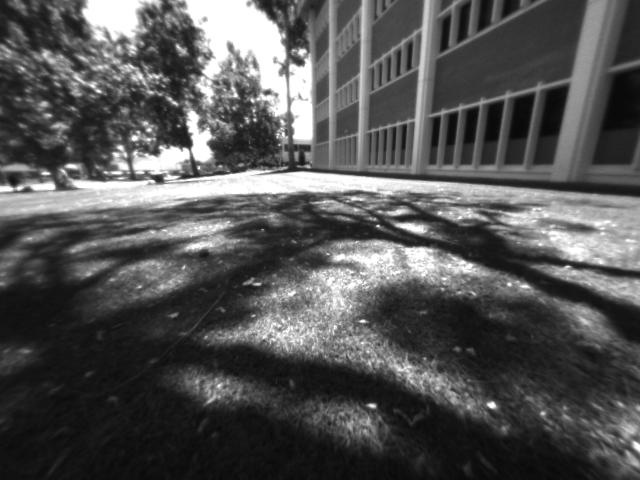dogtoy: (186, 240, 217, 263)
